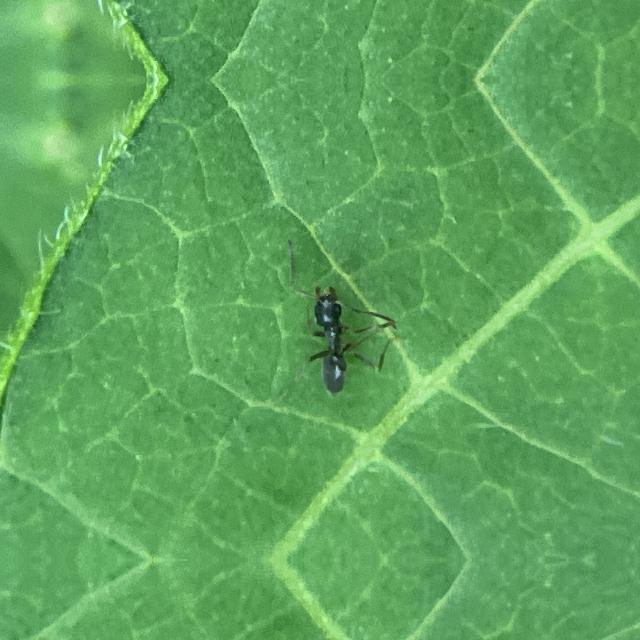Tapinoma: (288, 276, 382, 399)
